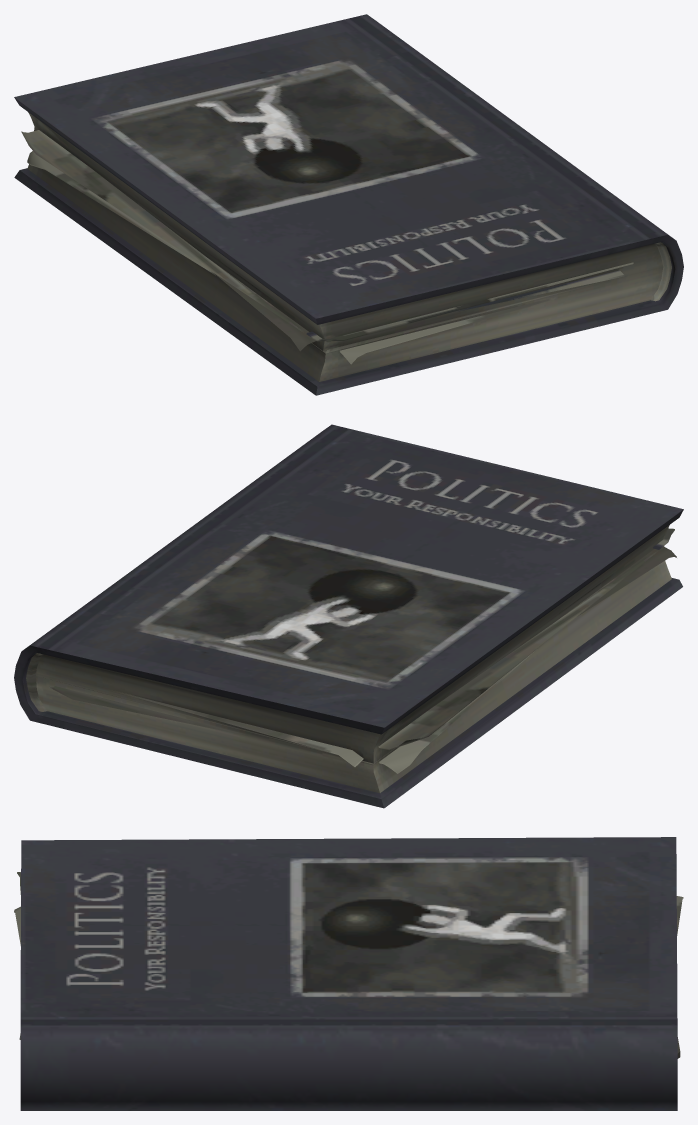
File: book_politics.dae
3 views of the same model, one above another, from view 1: azimuth 30°, elevation 25°; view 2: azimuth 150°, elevation 25°; view 3: azimuth 270°, elevation 25° (orthographic). The views are drawn at different scales.
Visible parts, largest first — view 1: book_politics; view 2: book_politics; view 3: book_politics.
Part boxes in pixels (<box>): book_politics: <box>14,14,683,395</box>; book_politics: <box>14,424,683,808</box>; book_politics: <box>14,837,683,1110</box>.
Bounding box in the file's own units: 0.1841 × 0.0373 × 0.2577.
